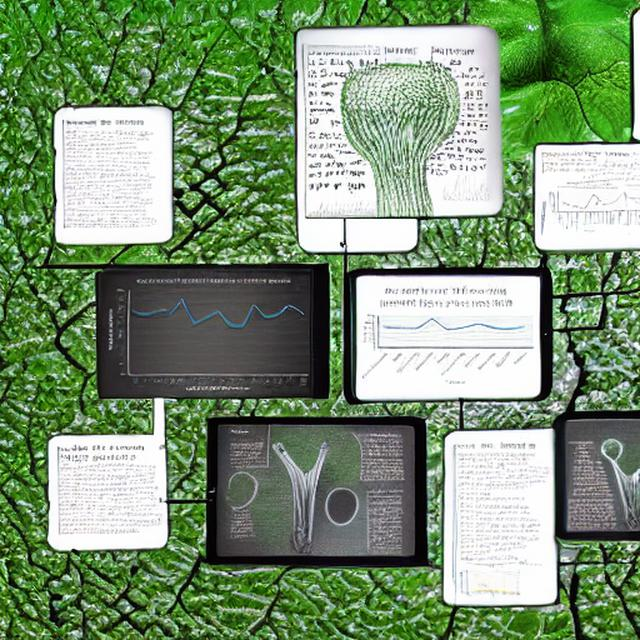Graph: (104, 273, 312, 397), (357, 283, 536, 389), (546, 181, 624, 235), (458, 561, 523, 600)
